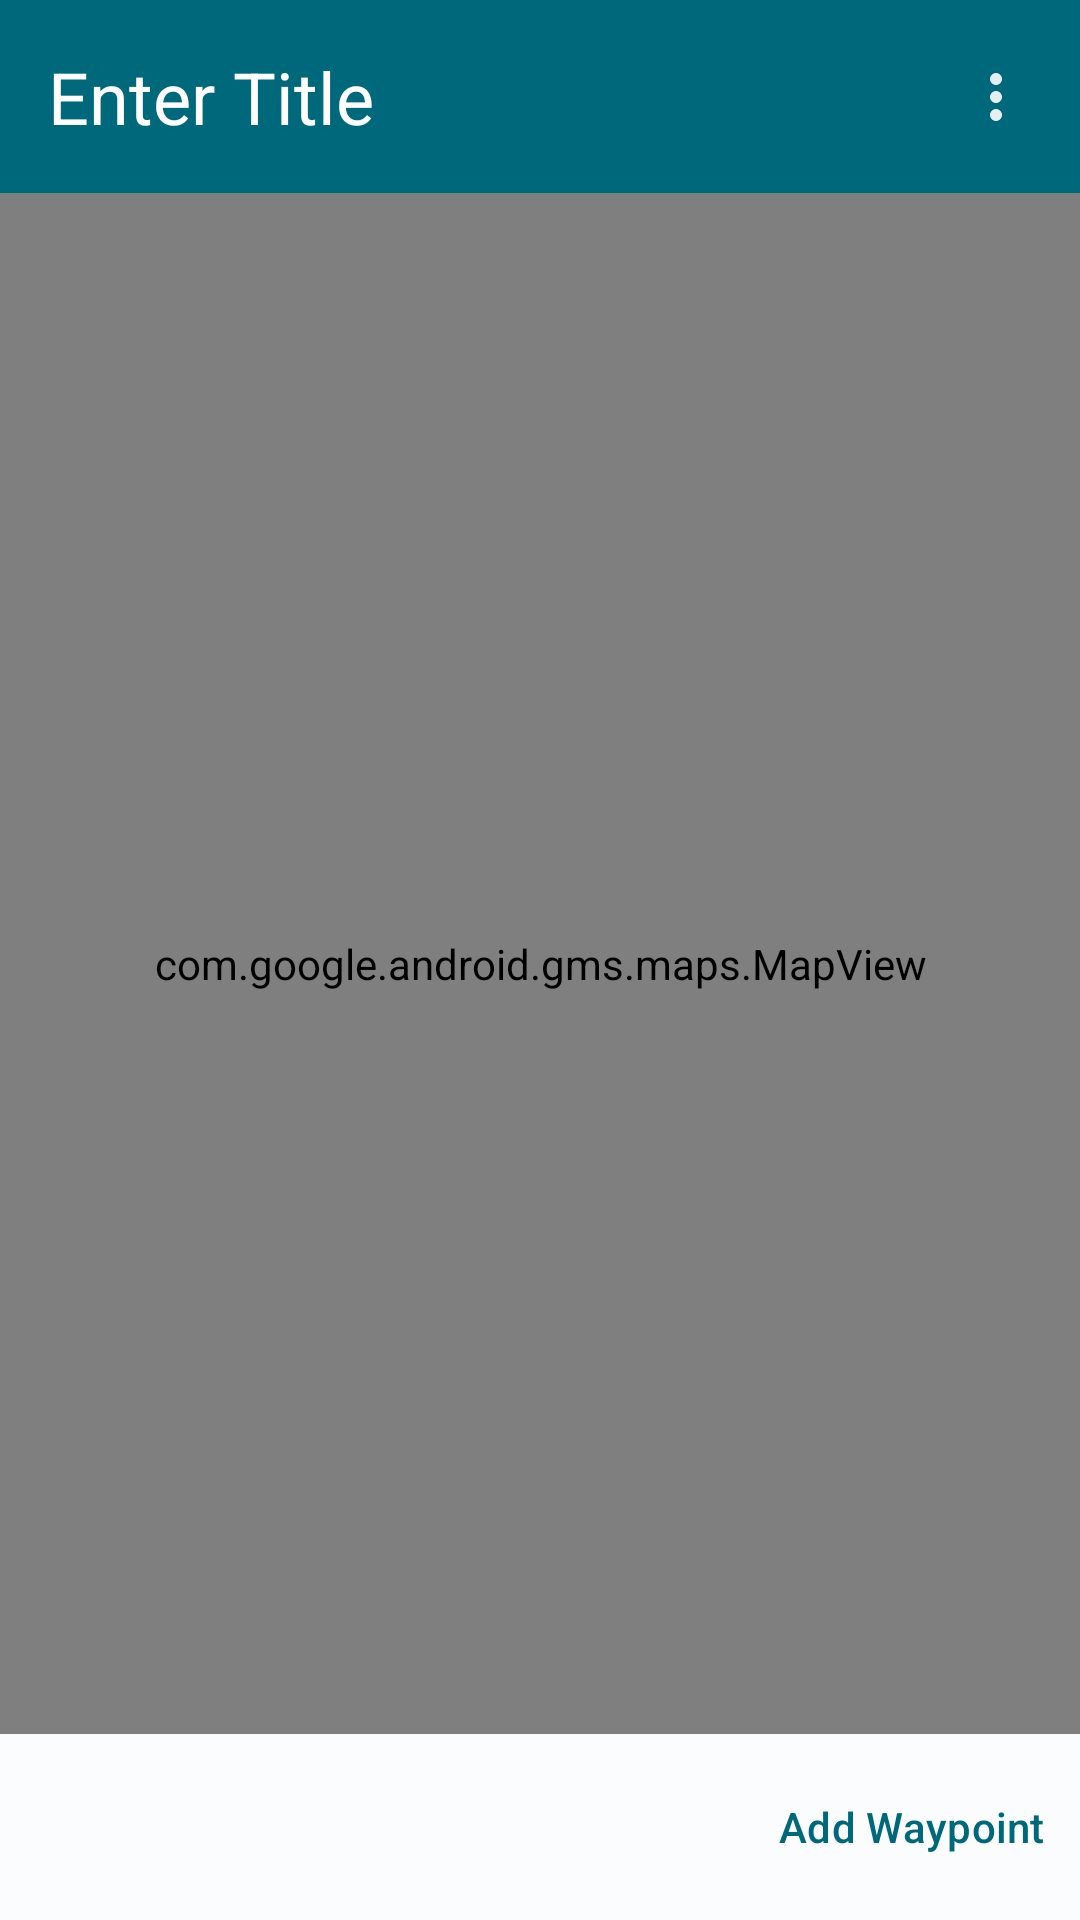

Icons on this 1080×1920 Android screen, each with the point to tap as [x,y]:
more: [996,97]
